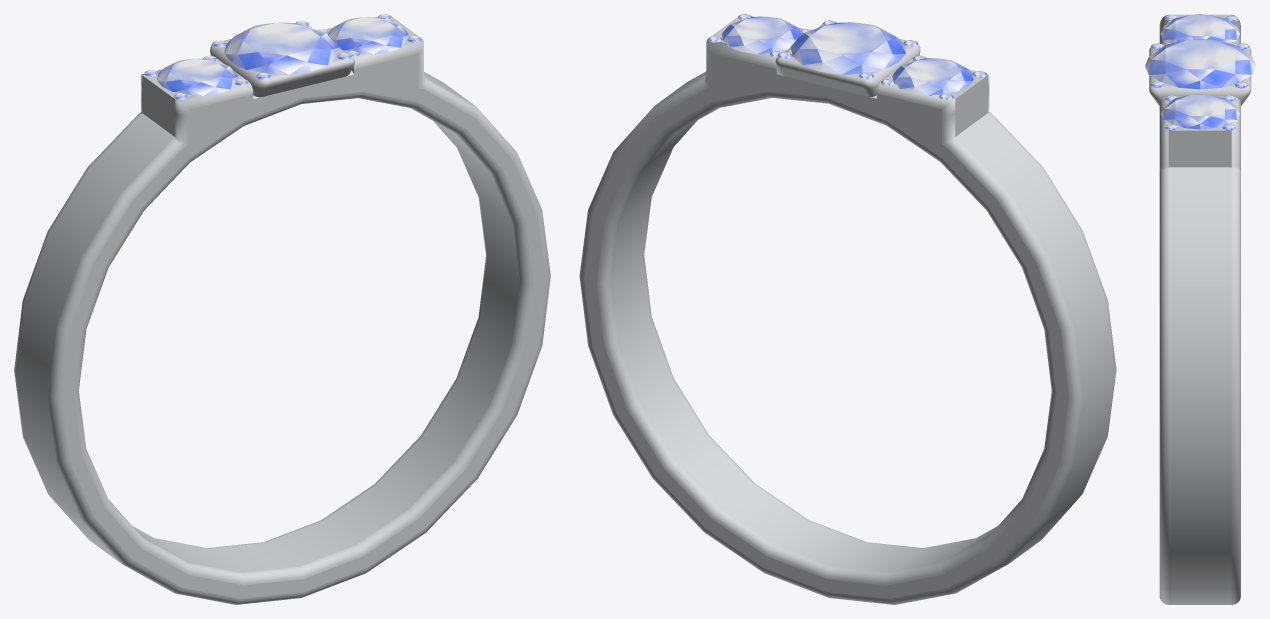
Rendered from diamond.dae.
3 renders of one model, left to right at view 1: azimuth 30°, elevation 25°; view 2: azimuth 150°, elevation 25°; view 3: azimuth 270°, elevation 25°, orthographic. The views are drawn at different scales.
Parts seen in each view (by area): view 1: SketchUp (×3), group_0, group_2, group_1; view 2: SketchUp (×3), group_0, group_2, group_1; view 3: SketchUp (×2), group_0, group_1, group_2.
Part boxes in pixels (x1=…): SketchUp (×3): x1=14, y1=16, x2=550, y2=604; group_0: x1=224, y1=22, x2=339, y2=74; group_2: x1=157, y1=58, x2=237, y2=96; group_1: x1=328, y1=17, x2=408, y2=54; SketchUp (×3): x1=579, y1=14, x2=1116, y2=604; group_0: x1=790, y1=22, x2=905, y2=74; group_2: x1=892, y1=58, x2=973, y2=95; group_1: x1=722, y1=16, x2=801, y2=54; SketchUp (×2): x1=1149, y1=14, x2=1251, y2=604; group_0: x1=1145, y1=38, x2=1255, y2=89; group_1: x1=1160, y1=94, x2=1239, y2=129; group_2: x1=1160, y1=14, x2=1239, y2=43.
Bounding box in the file's own units: 118 × 23.58 × 123.
3 materials, 1 textured.
